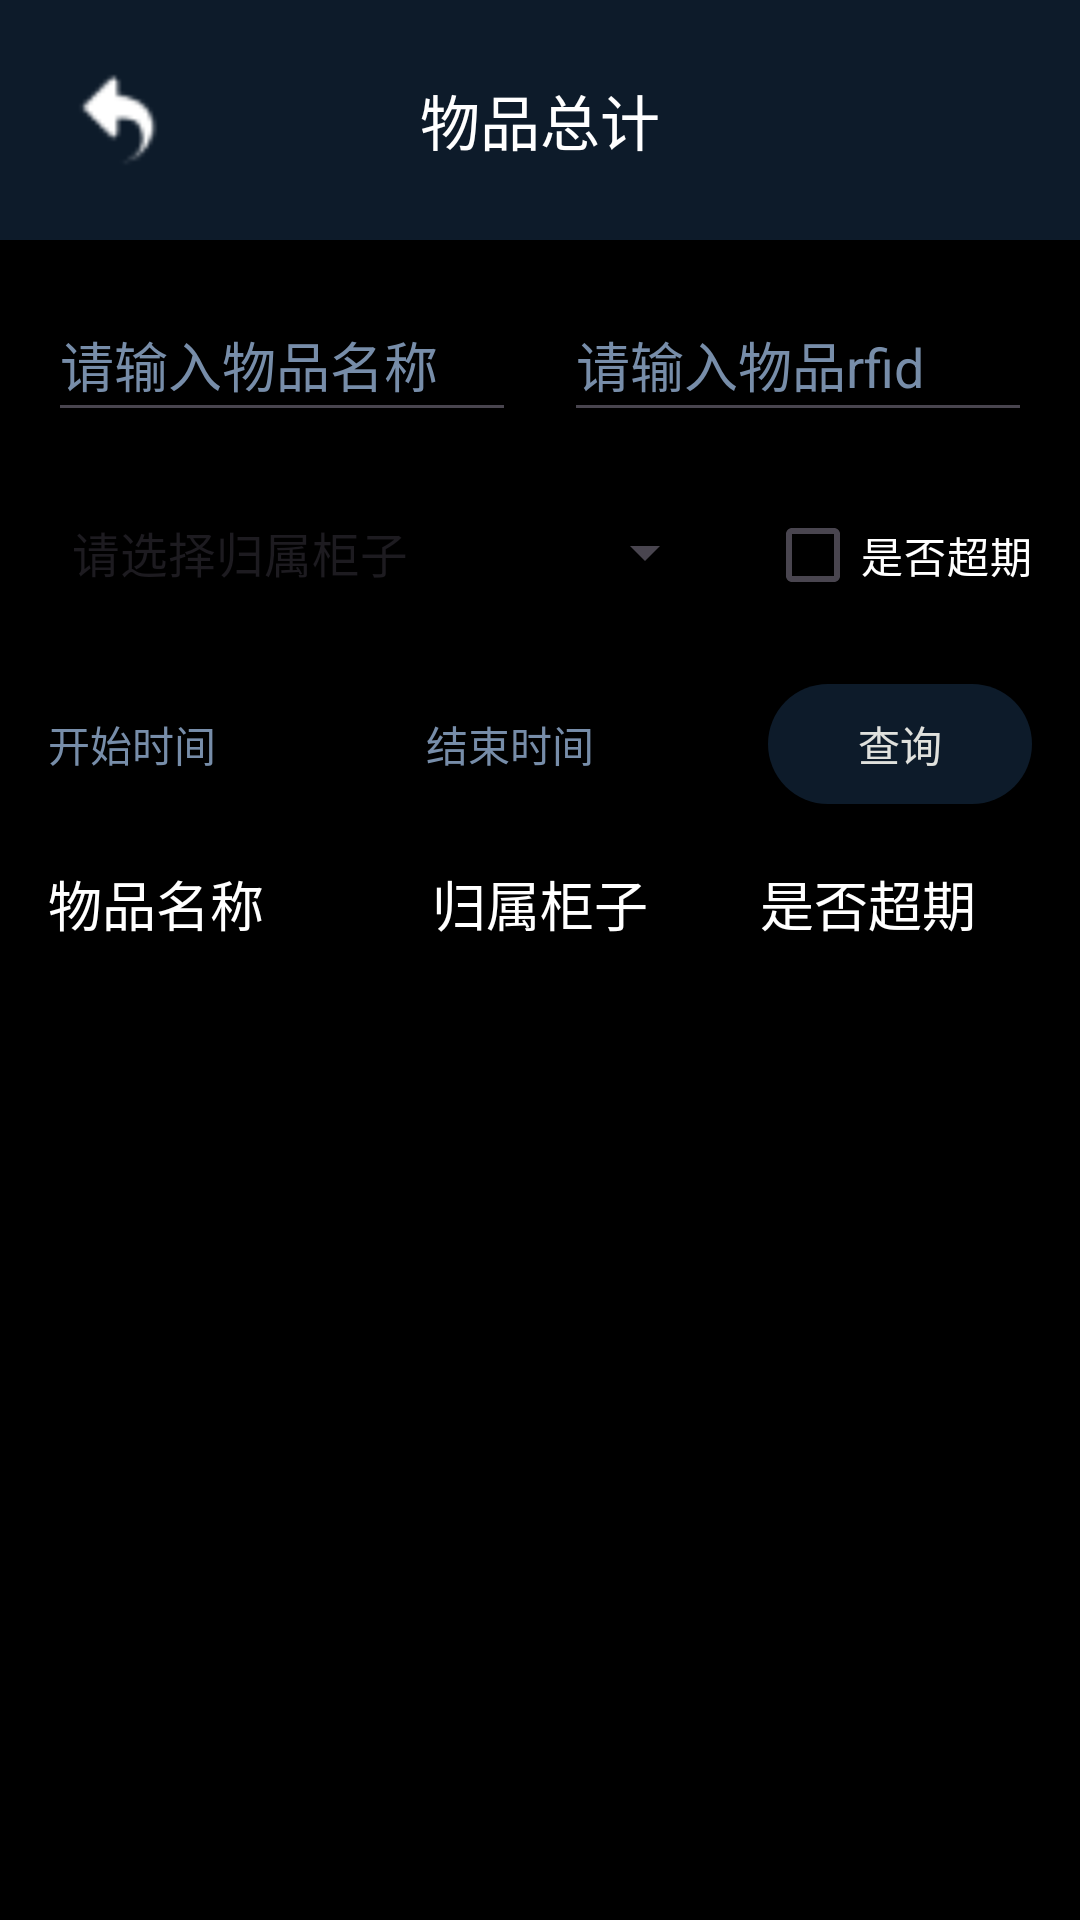

Where icons sit on this 1080×1920 app screen, as bbox=[x1, y1, x2, y2]:
返回: bbox=[82, 75, 156, 160]
